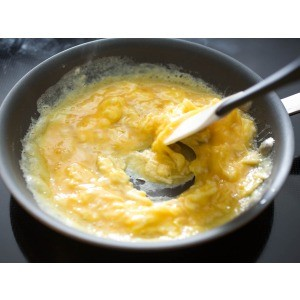egg_brain food: (63, 104, 160, 197)
